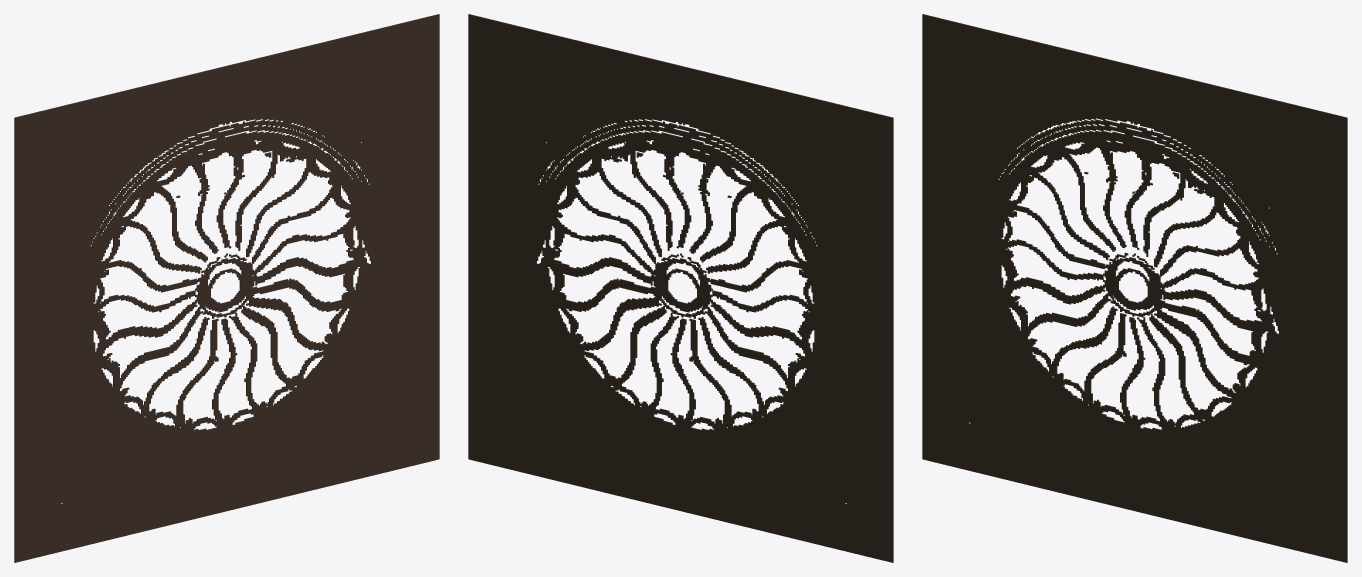
File: lattice_window.glb
The picture shows the model from 3 angles, left to right: view 1: azimuth 30°, elevation 25°; view 2: azimuth 150°, elevation 25°; view 3: azimuth 330°, elevation 25°; orthographic projection.
Parts seen in each view (by area): view 1: Lattice_Silhouette; view 2: Lattice_Silhouette; view 3: Lattice_Silhouette.
Boxes of the visible parts, bbox=[...] form: Lattice_Silhouette: bbox=[14, 14, 439, 562]; Lattice_Silhouette: bbox=[468, 14, 893, 562]; Lattice_Silhouette: bbox=[922, 14, 1347, 562].
Size of the model in its own units: 1.5 by 1.5 by 0.00391.
